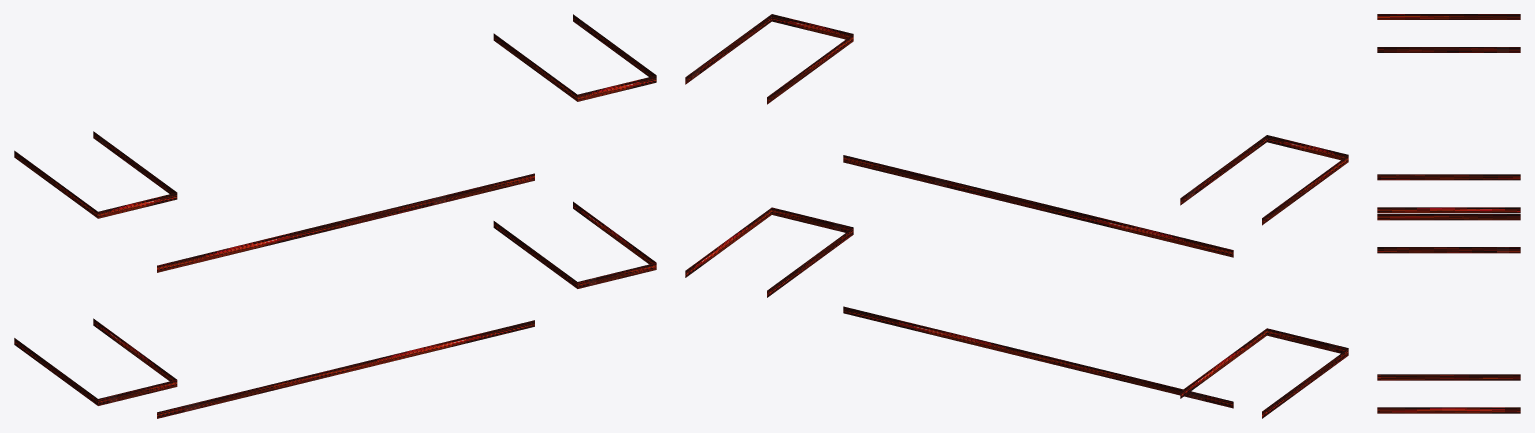
3 views of the same model, side by side, from view 1: azimuth 30°, elevation 25°; view 2: azimuth 150°, elevation 25°; view 3: azimuth 270°, elevation 25° (orthographic). The views are drawn at different scales.
Visible parts, largest first — view 1: Object05_3; view 2: Object05_3; view 3: Object05_3.
Part boxes in pixels (<box>): Object05_3: <box>14,14,656,418</box>; Object05_3: <box>685,14,1348,418</box>; Object05_3: <box>1377,14,1520,413</box>.
Bounding box in the file's own units: 697 × 295 × 181.
1 material, 1 textured.
